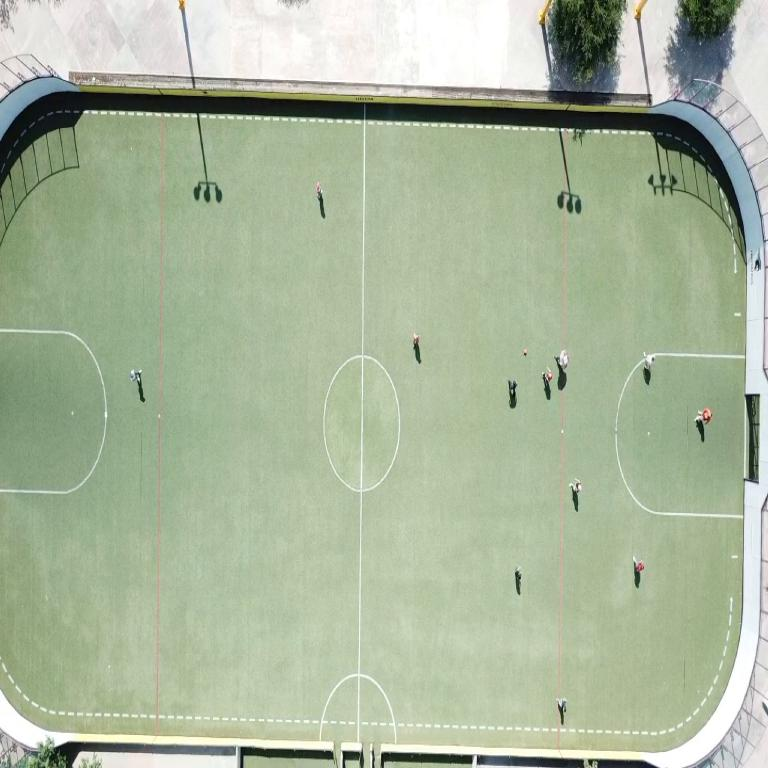AC: (615, 359, 742, 519), (0, 329, 107, 494)
B: (523, 349, 527, 354)
MC: (356, 104, 366, 741)
P: (695, 408, 711, 424), (556, 349, 568, 370), (414, 332, 421, 363), (644, 352, 655, 371), (542, 367, 553, 386), (515, 565, 523, 588), (569, 478, 581, 493), (633, 557, 644, 573), (556, 698, 567, 714), (129, 370, 140, 385), (508, 379, 516, 397), (317, 183, 322, 200)
